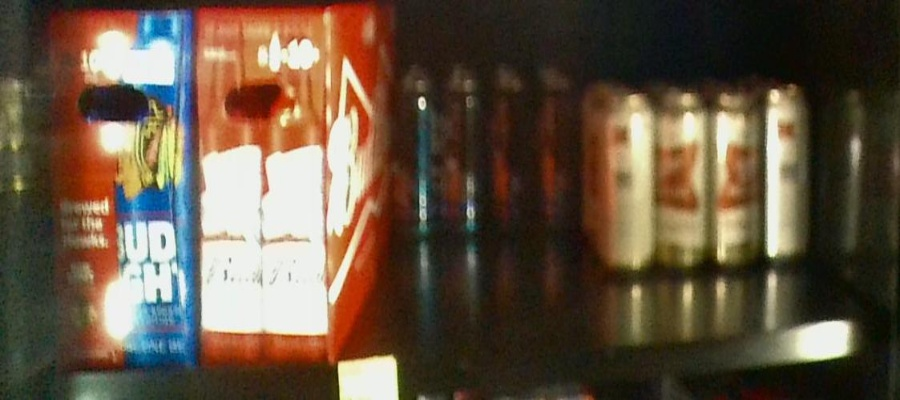bottle: (200, 9, 391, 353), (53, 10, 201, 367), (599, 86, 709, 276), (709, 86, 813, 276), (486, 70, 577, 244), (398, 75, 482, 239)
